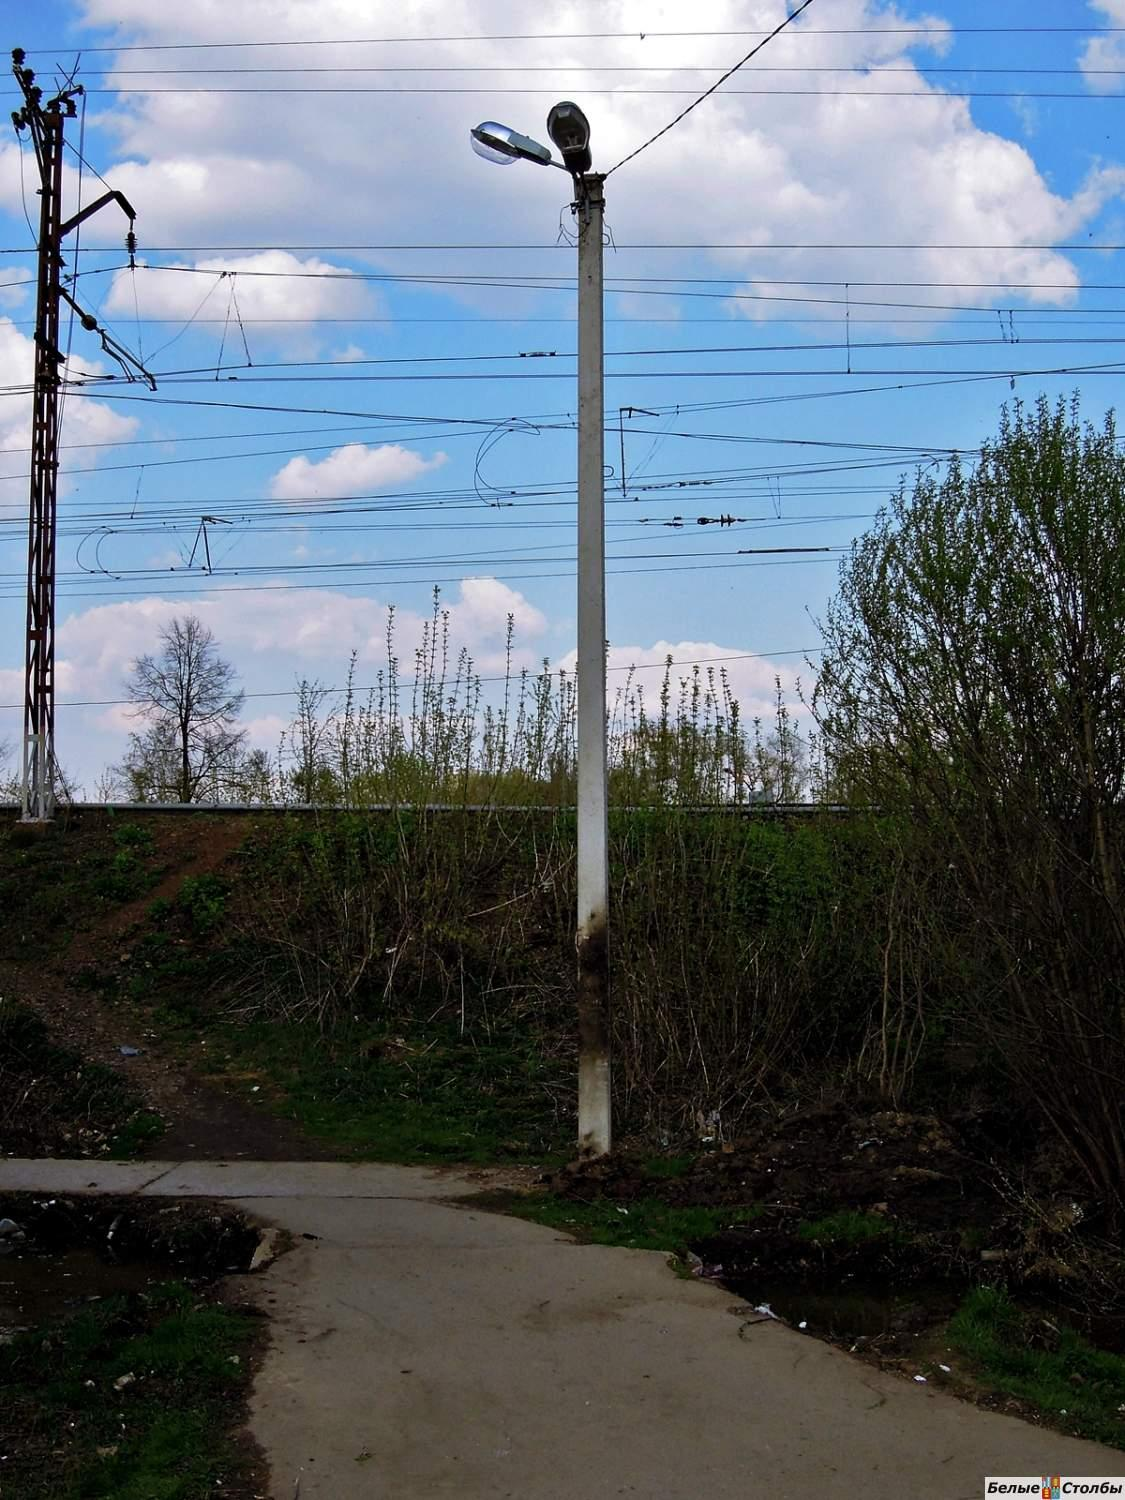Animal: (444, 94, 709, 1180), (0, 38, 144, 811)
